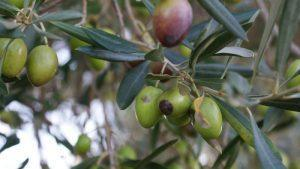Anthracnose: (154, 16, 186, 49), (157, 98, 176, 116)
